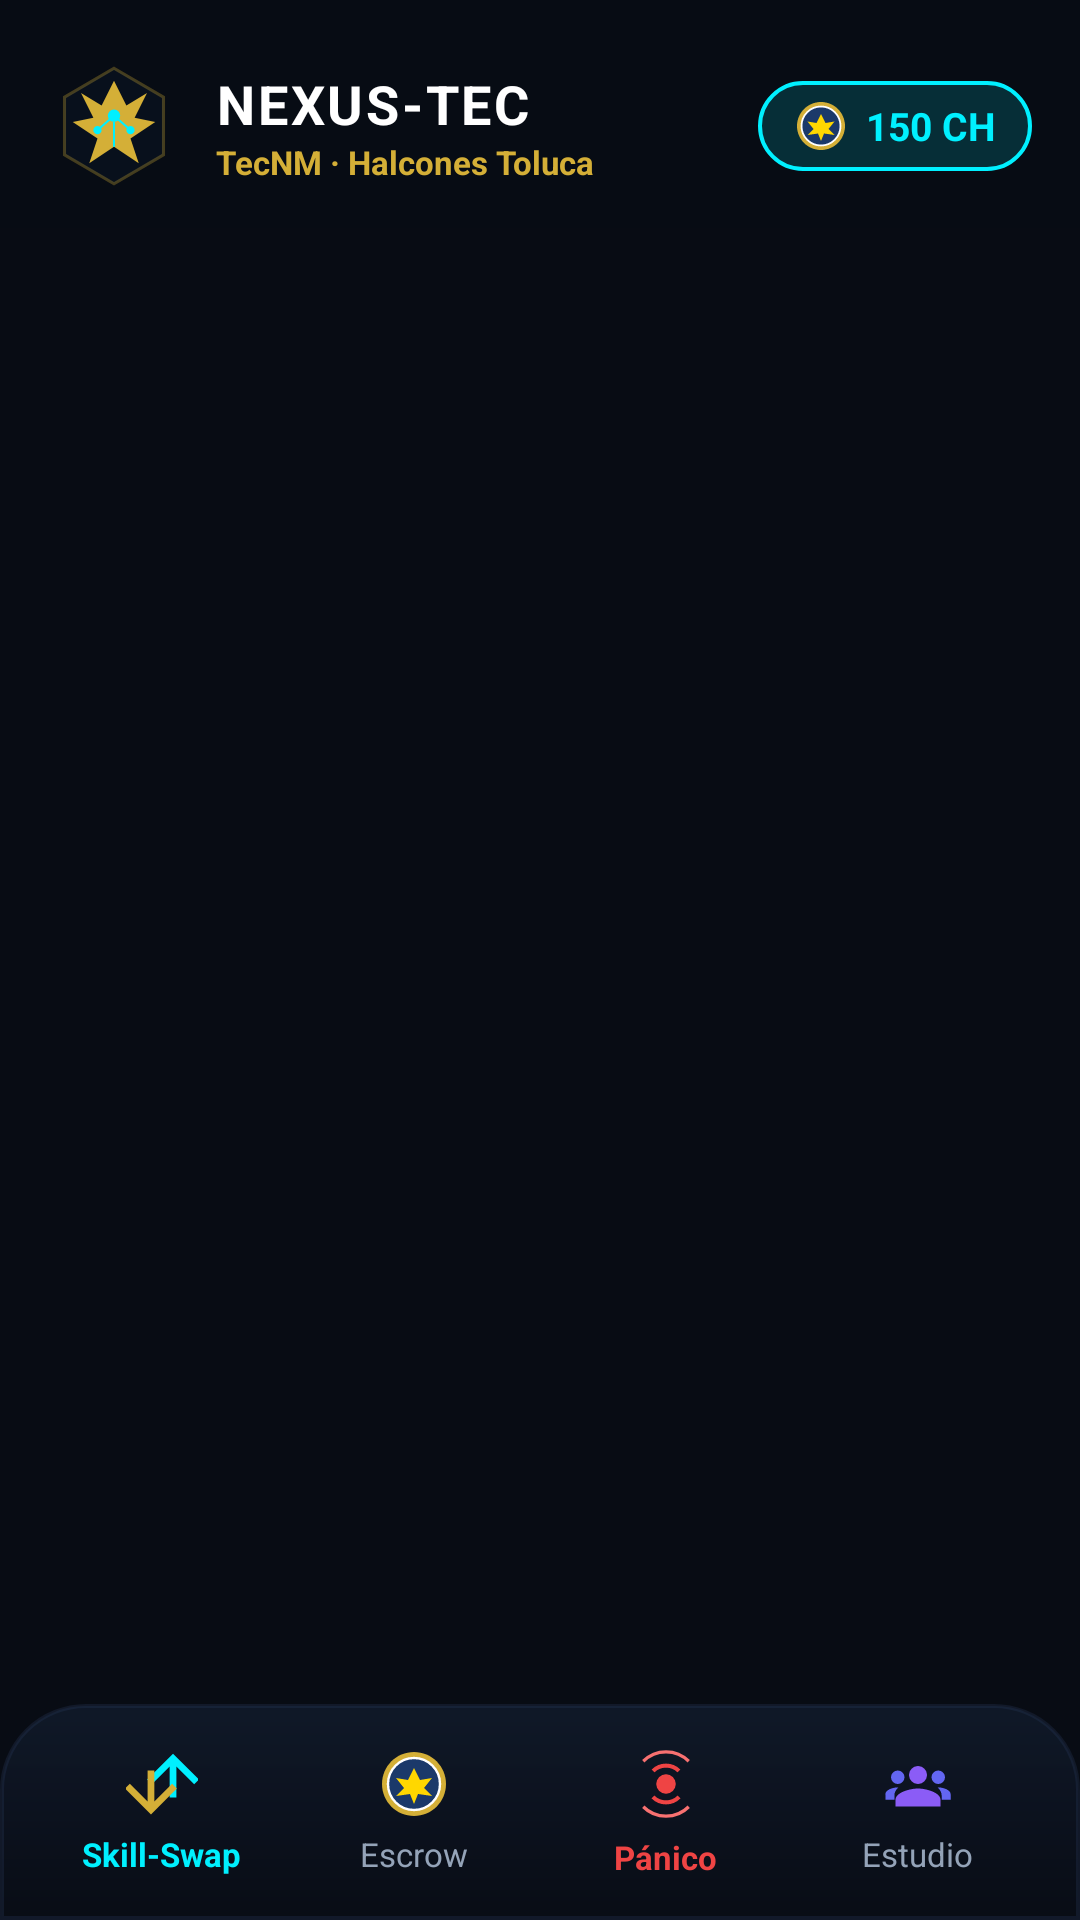

Icon click points for this 1080*1920 phone screenshot, format point (x, y):
Créditos Halcón: point (821, 126)
Grupos Flash: point (918, 1786)
